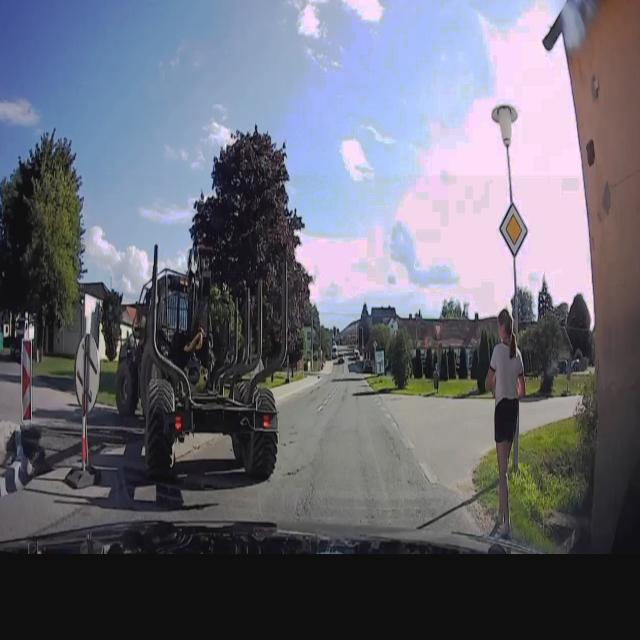Priority road: (499, 198, 529, 258), (372, 340, 378, 350)
